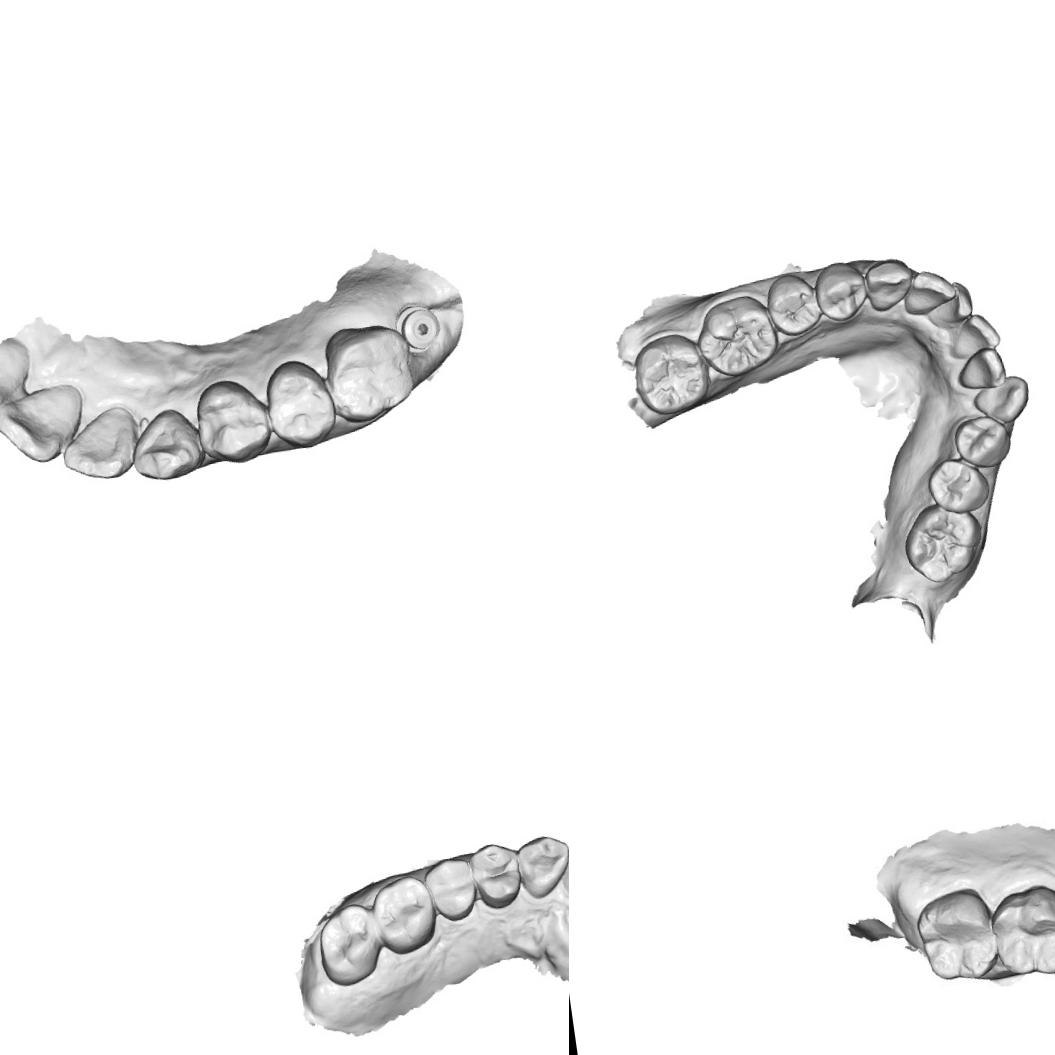canine: (124, 402, 204, 488), (512, 831, 569, 901), (970, 372, 1032, 426), (862, 256, 917, 312)
implant: (396, 300, 444, 356)
incisor: (53, 402, 142, 492), (0, 381, 90, 470), (904, 266, 956, 314), (954, 346, 1008, 392), (951, 310, 1003, 355), (932, 279, 976, 331), (556, 834, 569, 897)
molar: (319, 318, 420, 428), (910, 886, 1004, 992), (898, 496, 988, 587), (692, 292, 783, 380), (628, 330, 713, 418), (988, 881, 1055, 982), (312, 900, 386, 990), (368, 872, 441, 958)
premolar: (189, 373, 277, 473), (255, 355, 340, 454), (762, 269, 824, 340), (422, 853, 482, 926), (466, 838, 524, 913), (924, 454, 992, 517), (811, 258, 872, 324), (951, 412, 1014, 471)
